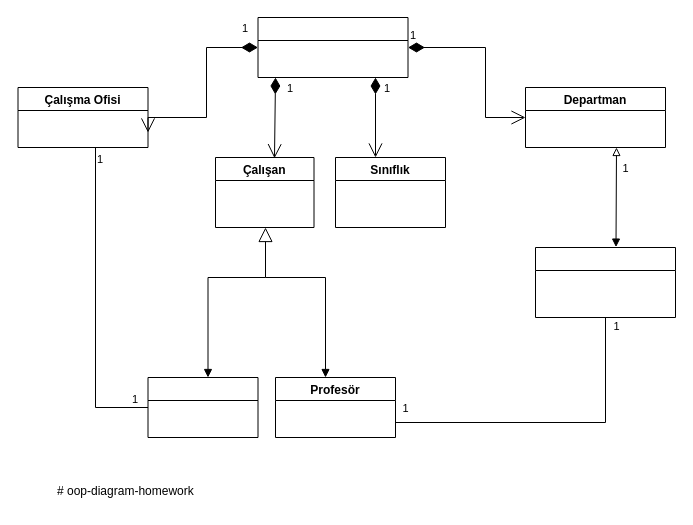
Some shapes in this 693 by 525 pixel diagram are drawn without their labels. Each missing label, with the centre of its shape:
Departman Ofisi: the point at 605,282
Memur: the point at 202,407
Üniversite: the point at 332,47
